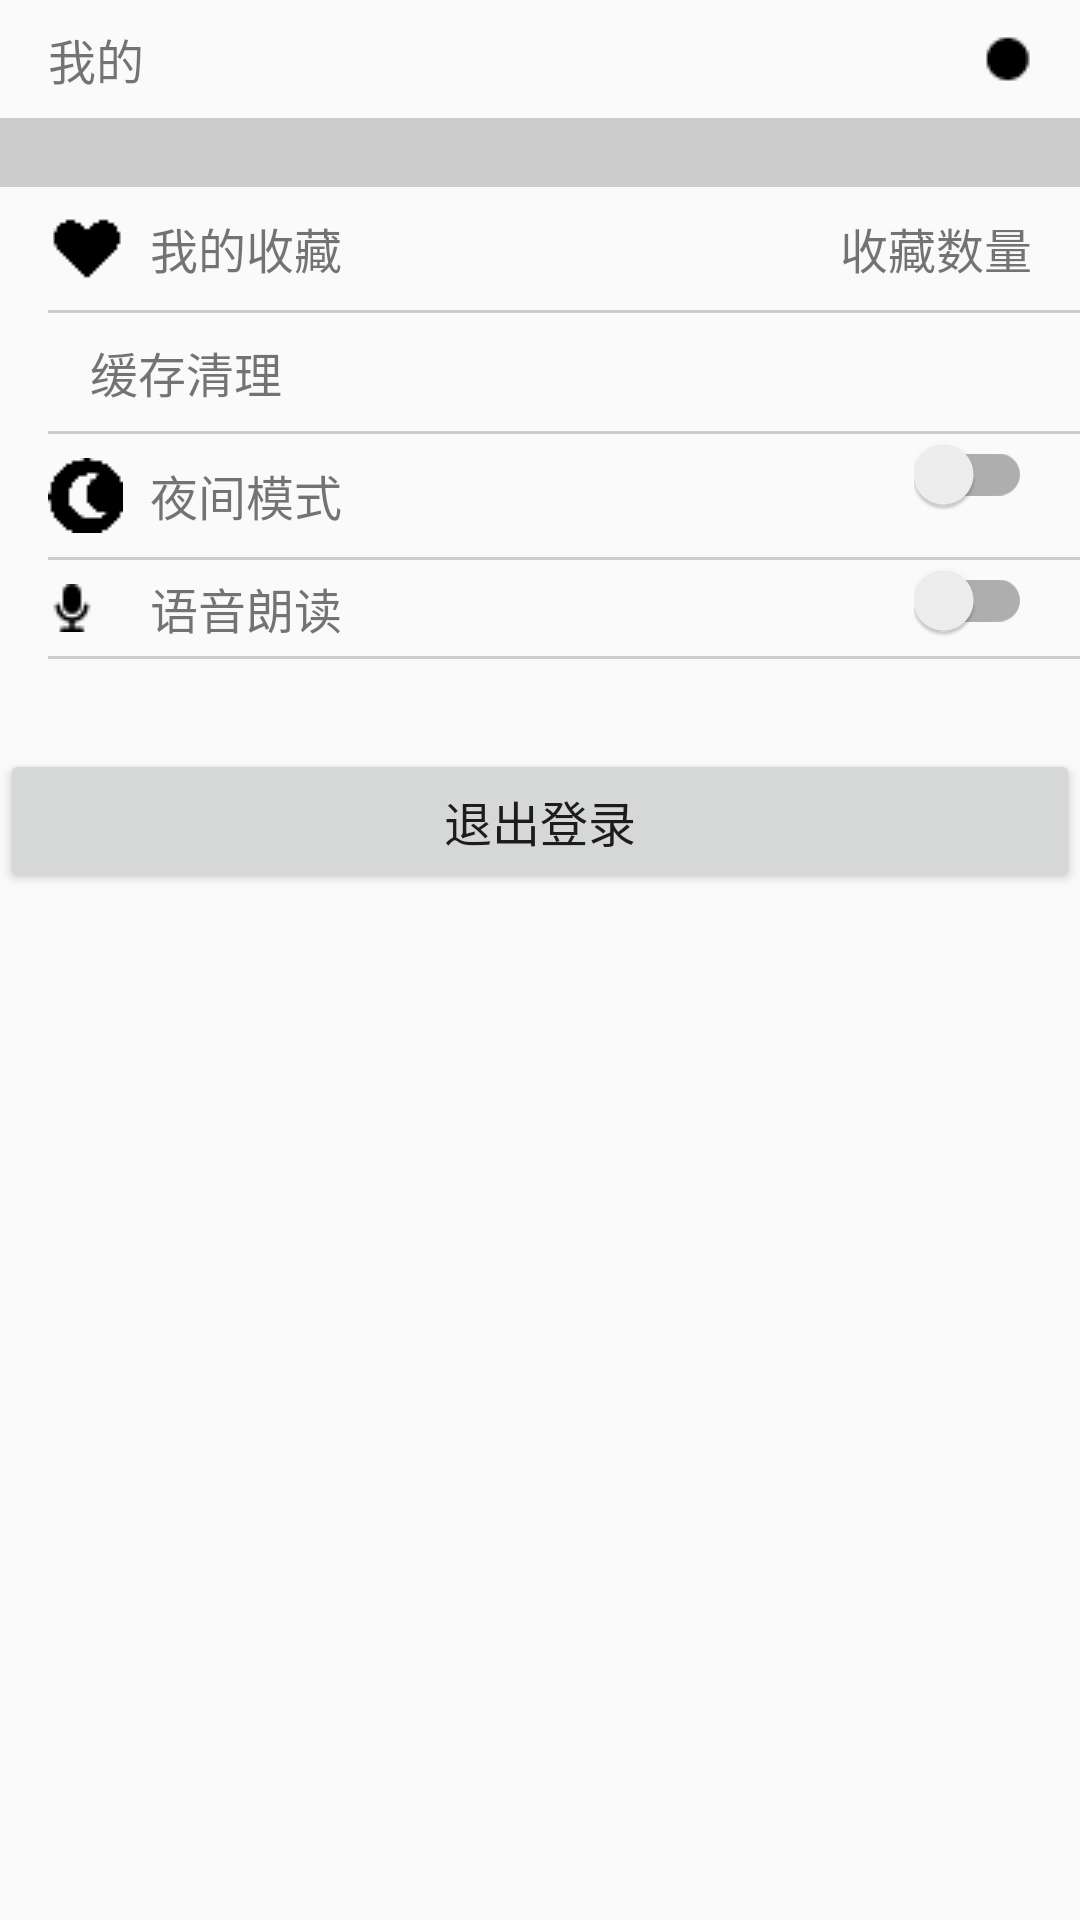

Icon click points for this 1080px×1920px phone screenshot, format point (x, y):
collect: point (87, 248)
night: point (85, 495)
voice: point (72, 608)
